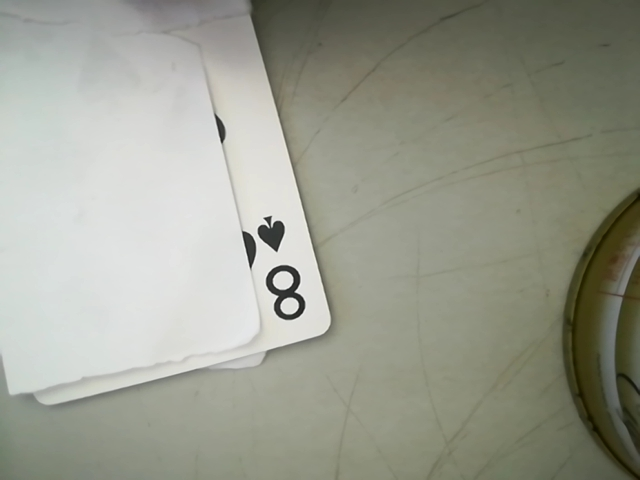ht 8: (236, 209, 320, 327)
